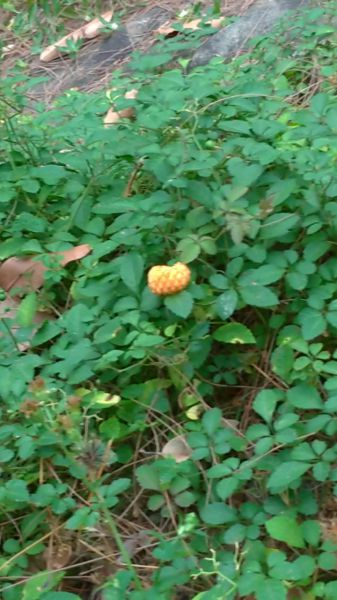eggs: (142, 252, 197, 300)
